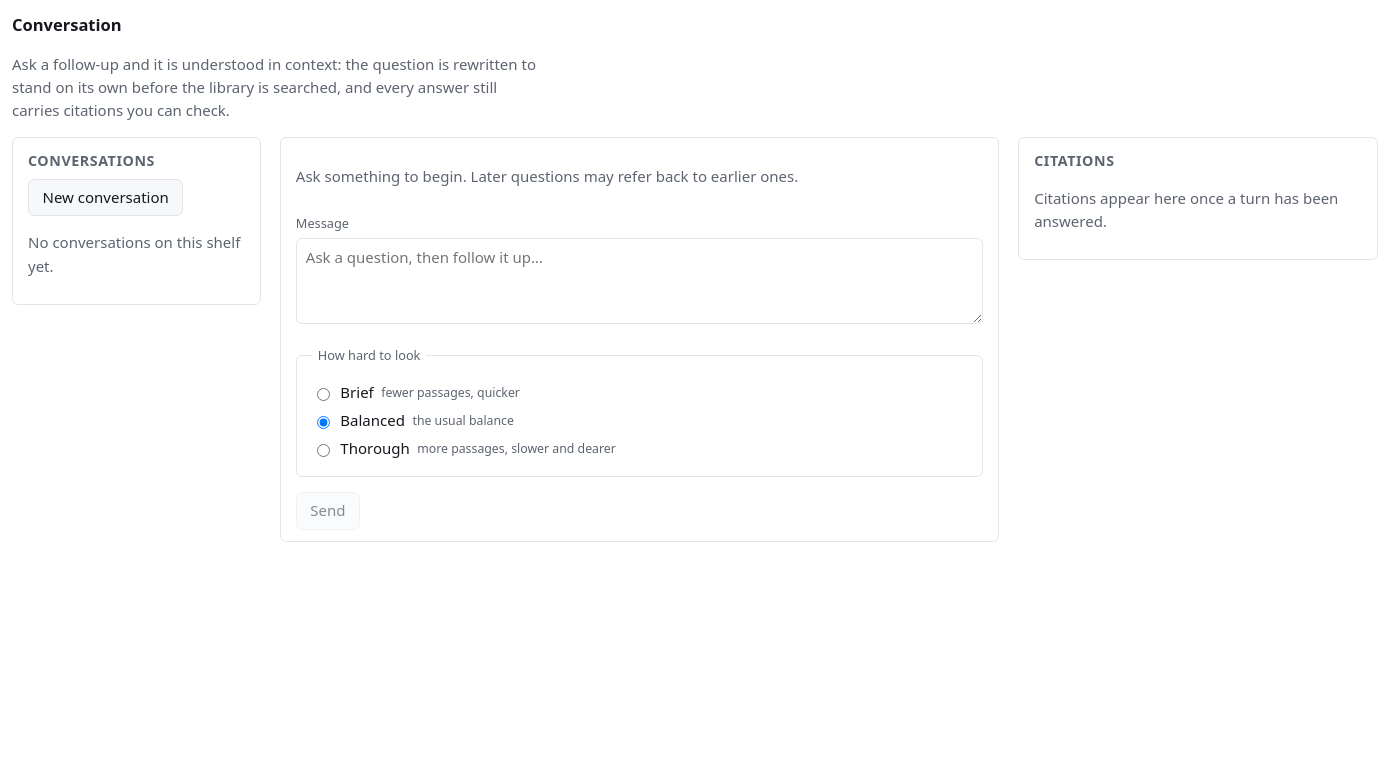
Scenario: asking › puts the streamed prose in the transcript
The width and height of the screenshot is (1378, 780).
Type "¿?" into the text box at (640, 281), box 296,238 -> 983,324
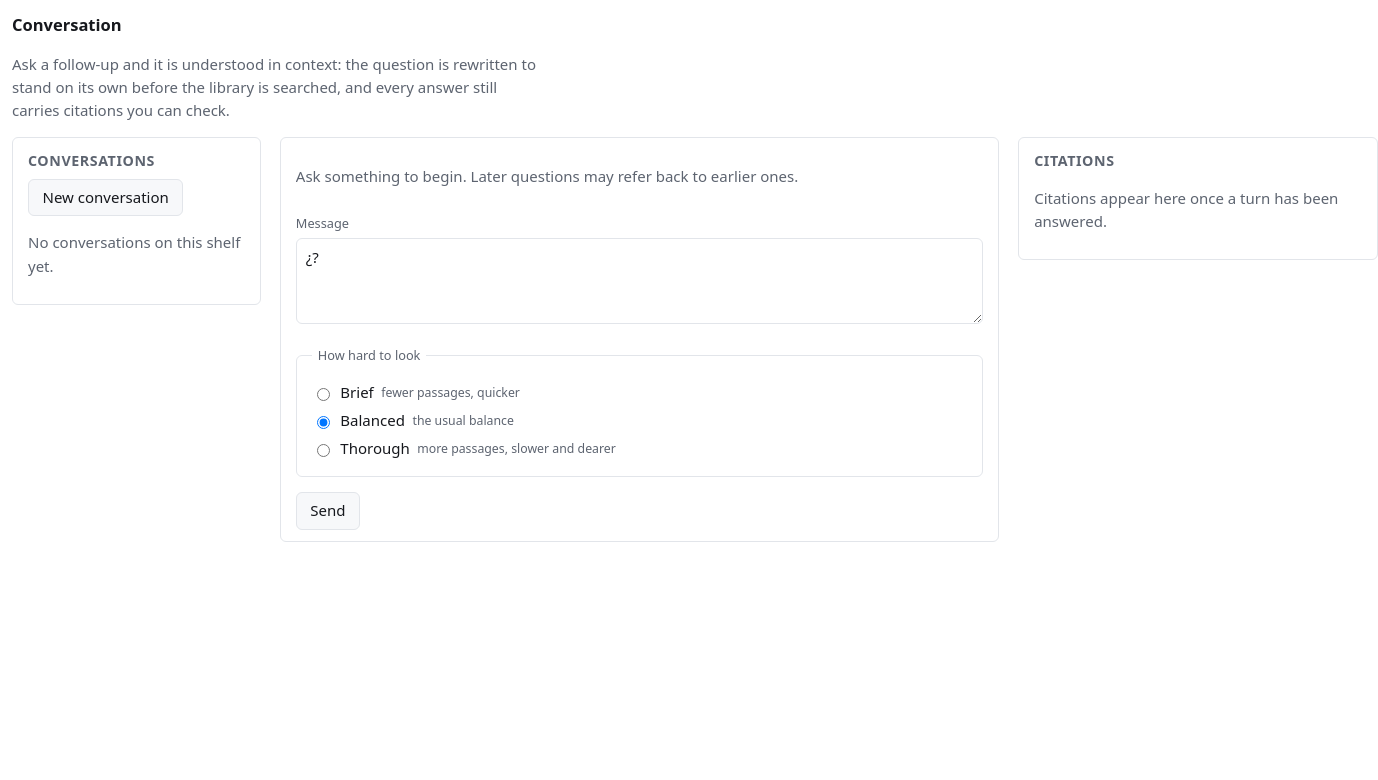
Result: the button "Send" is enabled
Click the button "Send" at (328, 511), box 296,492 -> 360,530
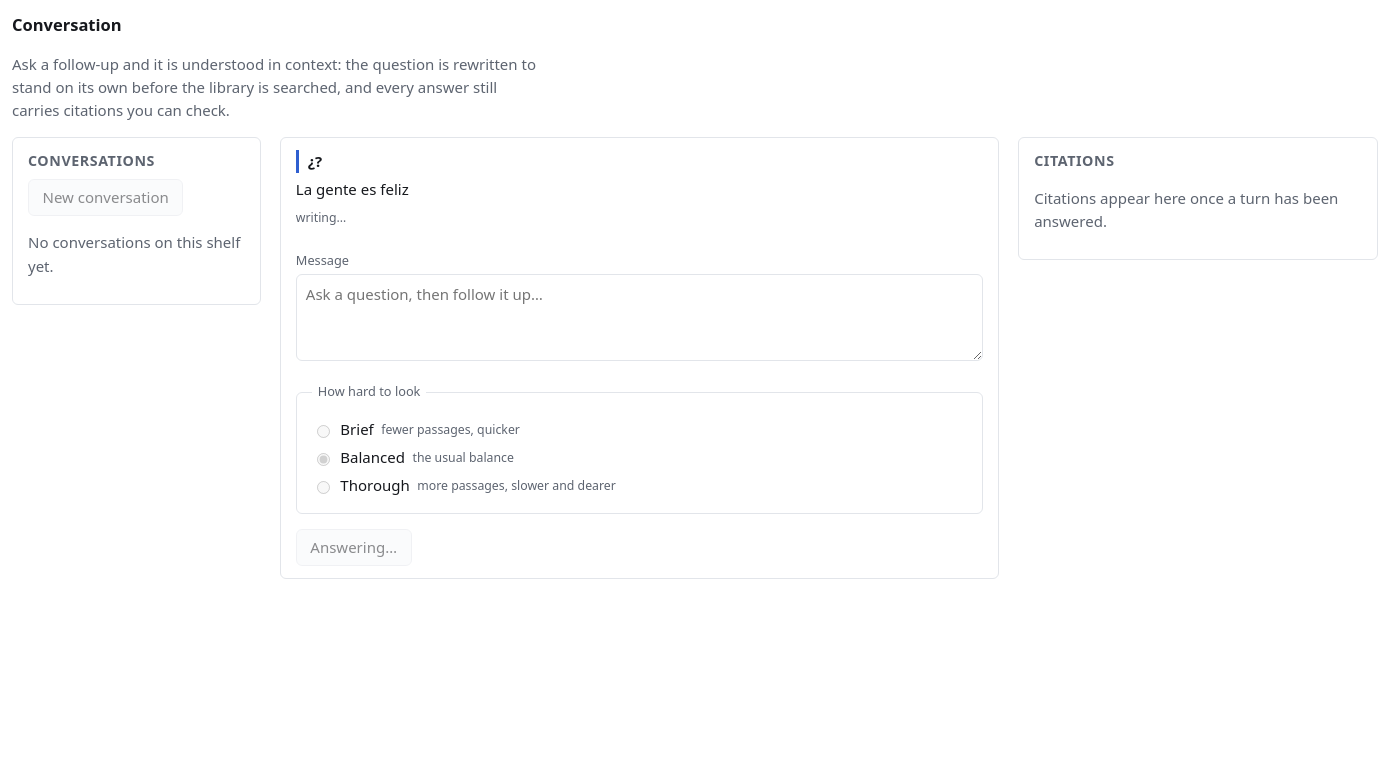
Result: the text "La gente es feliz" is shown at 296,179 -> 409,199
